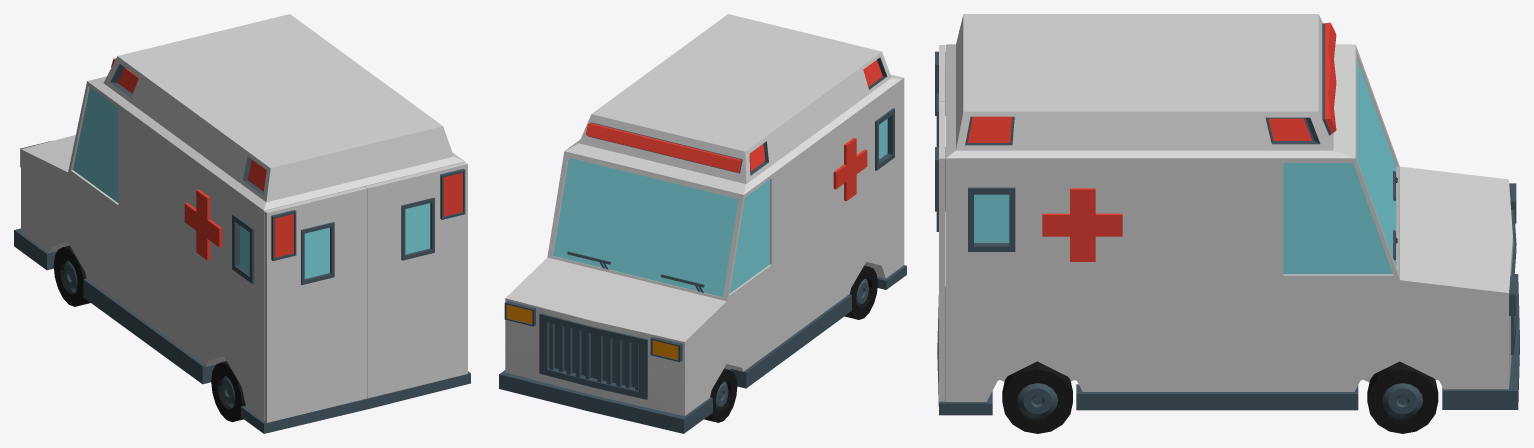
Rendered from ambul.glb.
The picture shows the model from 3 angles, left to right: view 1: azimuth 30°, elevation 25°; view 2: azimuth 150°, elevation 25°; view 3: azimuth 270°, elevation 25°; orthographic projection. The views are drawn at different scales.
Parts seen in each view (by area): view 1: Ambulance_Circle.001; view 2: Ambulance_Circle.001; view 3: Ambulance_Circle.001.
Part boxes in pixels (x1,y1,x2,y2): Ambulance_Circle.001: (14, 14, 470, 433); Ambulance_Circle.001: (499, 14, 906, 433); Ambulance_Circle.001: (935, 14, 1519, 433).
Size of the model in its own units: 7.84 by 9.8 by 16.47.
